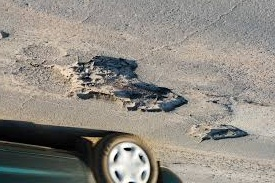pothole: (62, 53, 191, 116), (191, 119, 252, 147), (0, 31, 9, 42)
